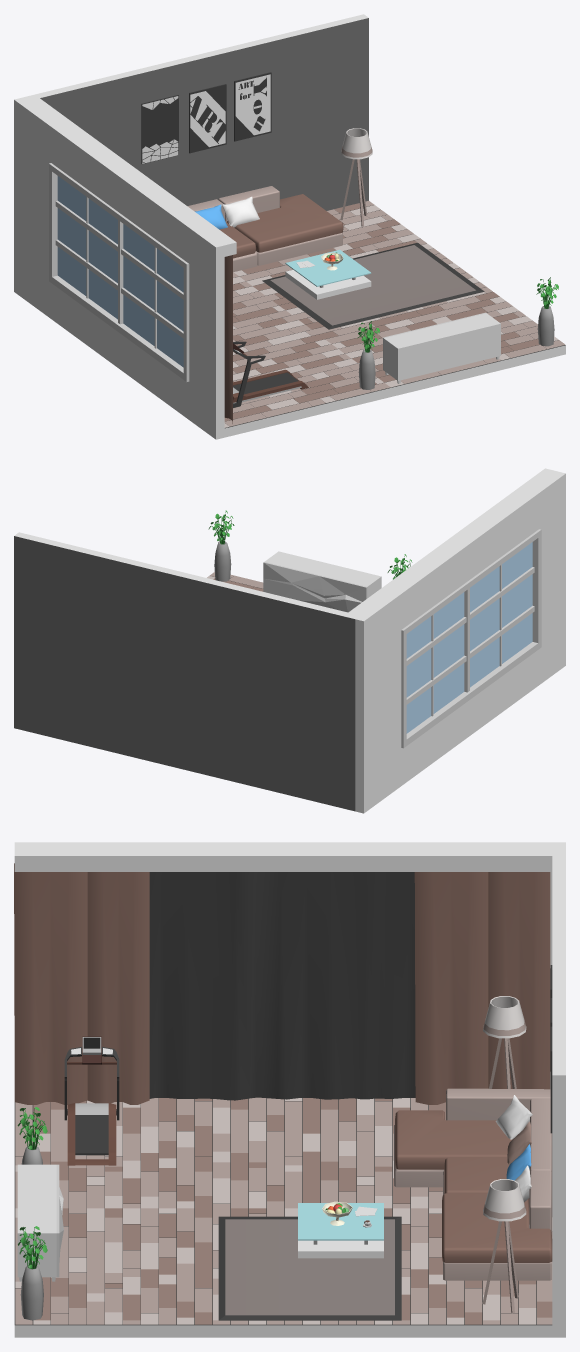
The model's file is room_1.glb.
The picture shows the model from 3 angles, top to bottom: view 1: azimuth 30°, elevation 25°; view 2: azimuth 150°, elevation 25°; view 3: azimuth 270°, elevation 25°; orthographic projection. The views are drawn at different scales.
Visible parts, largest first — view 1: Walls_046.014, window_018.007, floor_018.007, carpet_001.007, floor_018.005, Walls_006.133, Walls_006.132, sofa_028.004, Walls_006.135, Walls_011.017, shelf_059.001, Walls_006.134 (+13 smaller); view 2: Walls_046.014, window_018.007, Walls_006.133, Walls_006.135, Walls_006.132, Walls_006.134, shelf_059.001, Walls_003.051, flowerpot_027.001; view 3: Curtains_028.001, Curtains_031.004, Curtains_031.003, floor_018.007, floor_018.005, sofa_028.004, carpet_001.007, floor_018.008, Walls_003.051, Walls_011.017, floor_018.006, Walls_046.014 (+11 smaller).
Boxes of the visible parts, x1,y1,x2,y2 form: Walls_046.014: (23,14,368,210); window_018.007: (49,163,189,381); floor_018.007: (224,315,390,427); carpet_001.007: (262,242,484,329); floor_018.005: (292,272,565,387); Walls_006.133: (14,97,60,319); Walls_006.132: (188,225,224,439); sofa_028.004: (187,186,343,272); Walls_006.135: (52,125,196,262); Walls_011.017: (224,205,565,437); shelf_059.001: (383,312,500,383); Walls_006.134: (52,284,188,418); Walls_046.014: (14,532,359,811); window_018.007: (401,529,541,748); Walls_006.133: (355,591,401,813); Walls_006.135: (393,491,538,628); Walls_006.132: (530,471,565,685); Walls_006.134: (402,650,538,785); shelf_059.001: (263,551,381,612); Walls_003.051: (348,468,556,615); flowerpot_027.001: (214,541,231,581); Curtains_028.001: (149,872,415,1100); Curtains_031.004: (14,863,149,1104); Curtains_031.003: (414,872,550,1104); floor_018.007: (15,1097,284,1208); floor_018.005: (15,1208,284,1324); sofa_028.004: (394,1088,552,1280); carpet_001.007: (218,1216,401,1320); floor_018.008: (285,1098,445,1208); Walls_003.051: (14,848,552,871); Walls_011.017: (14,1098,552,1337); floor_018.006: (285,1208,552,1324); Walls_046.014: (552,848,565,1337).
Size of the model in its own units: 8.06 by 4.2 by 8.01.
Materials: 1 (1 with a texture image).
